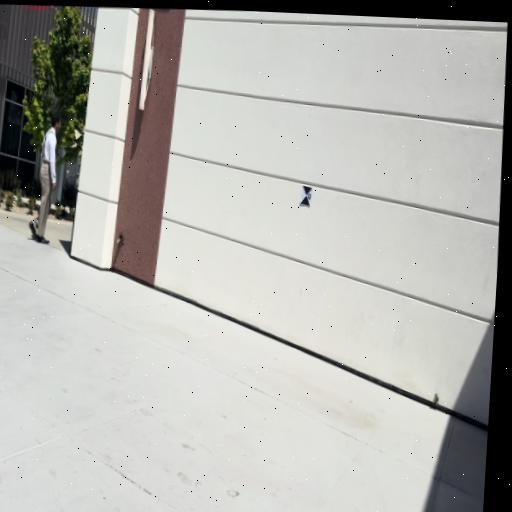target0: (300, 185, 313, 207)
